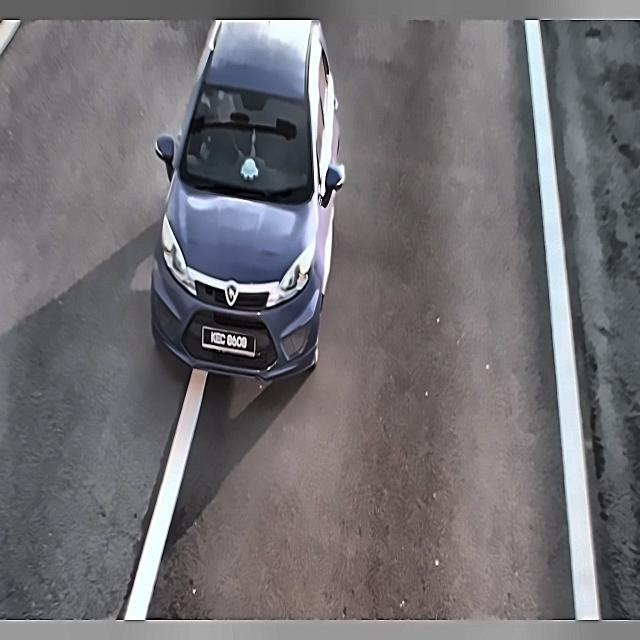car: (199, 324, 258, 362)
